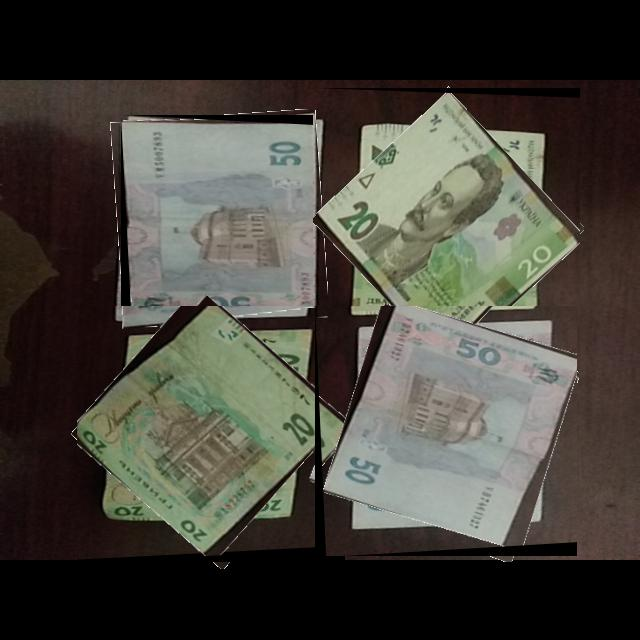20uah: (316, 92, 581, 358), (77, 306, 343, 558)
50uah: (322, 306, 578, 549), (122, 123, 314, 327)
